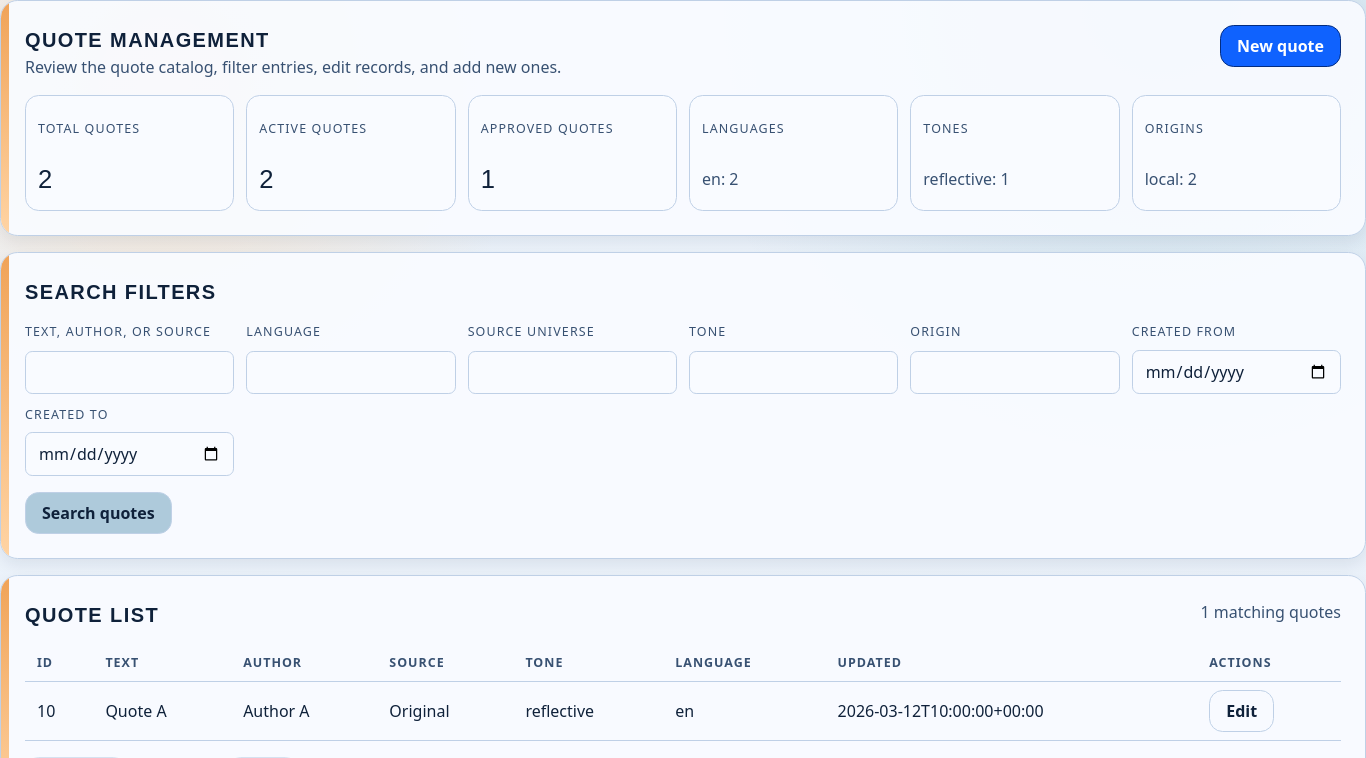
Test case: QuoteManagementPage › closes the modal without saving when cancel is clicked
Expected: the heading "Quote management" is shown, x1=25 y1=29 x2=270 y2=51
Click the button "New quote".
click(1280, 46)  # box x1=1220 y1=25 x2=1341 y2=67
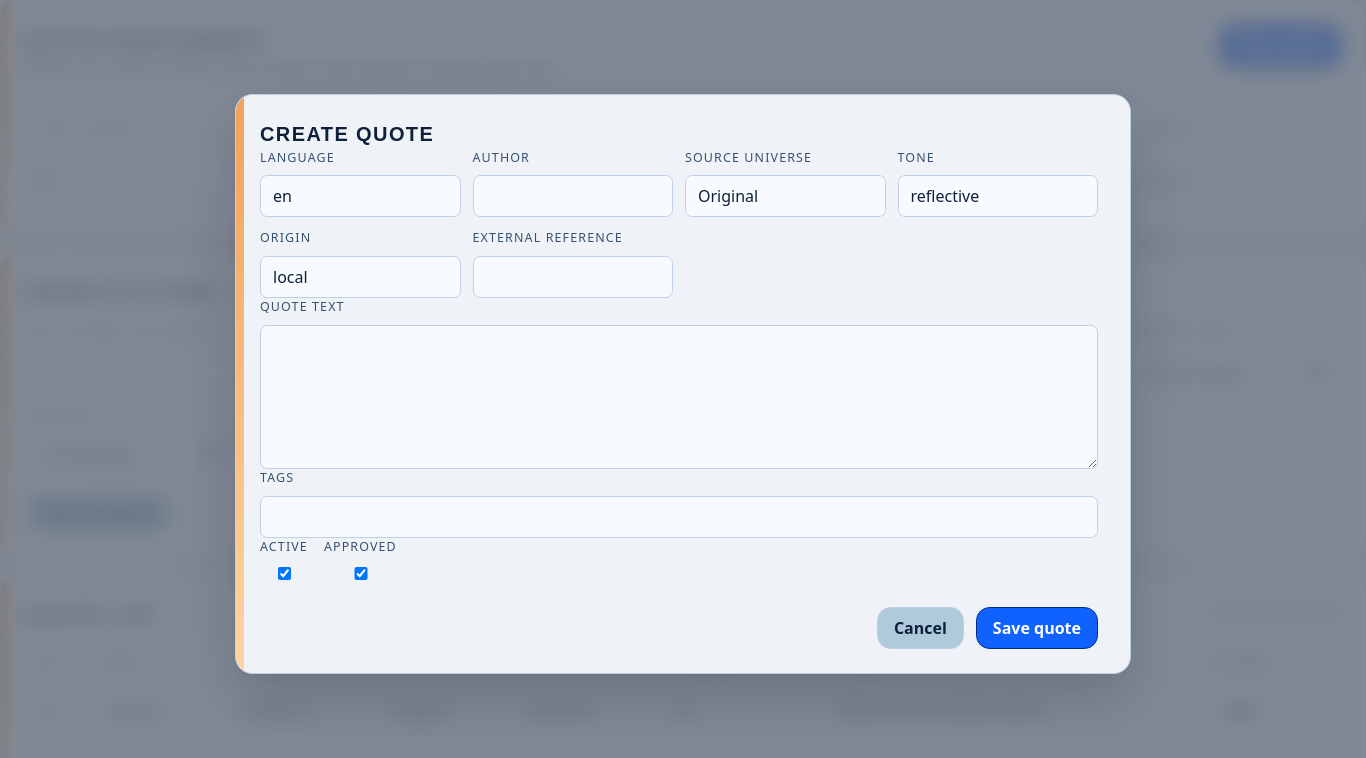
Expected: the dialog is shown, x1=235 y1=94 x2=1131 y2=674
Click the button "Cancel".
click(920, 628)  # box x1=877 y1=607 x2=964 y2=649
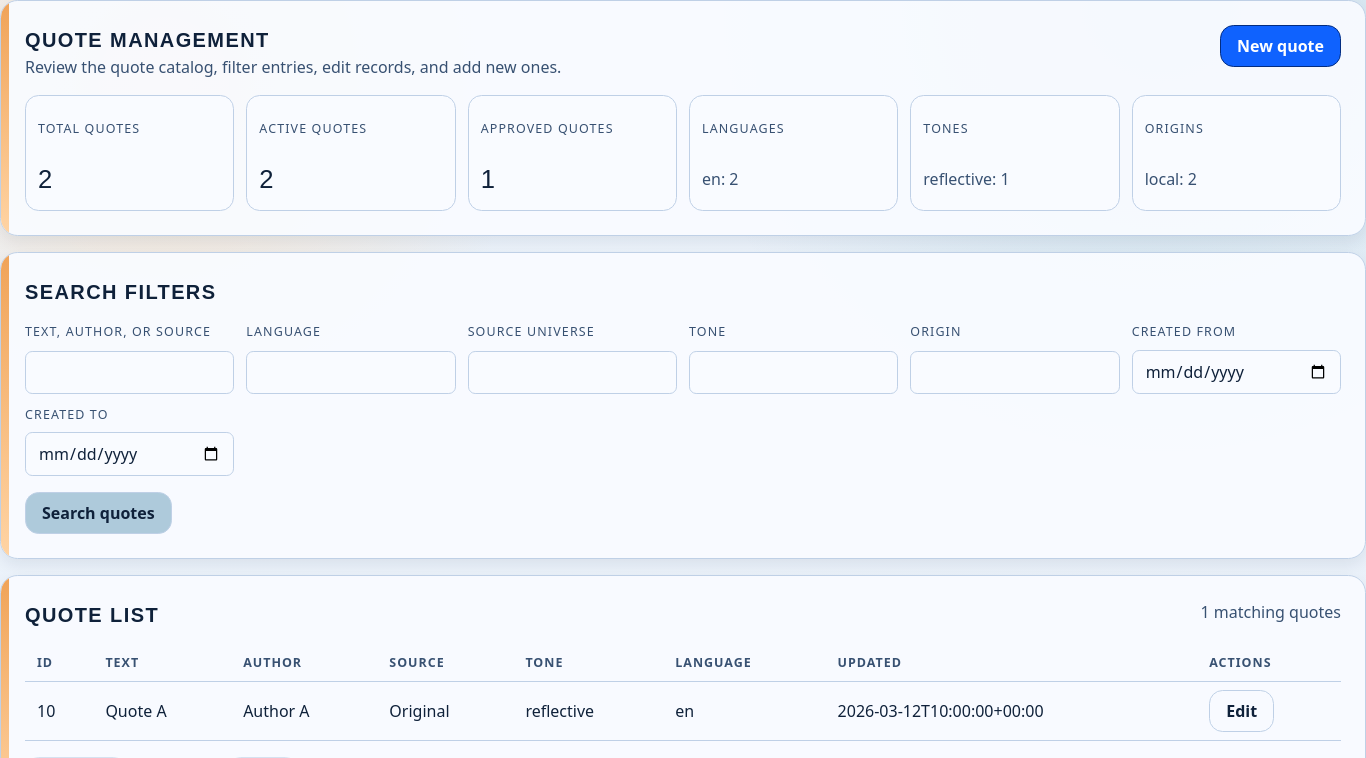
Expected: the dialog is gone
